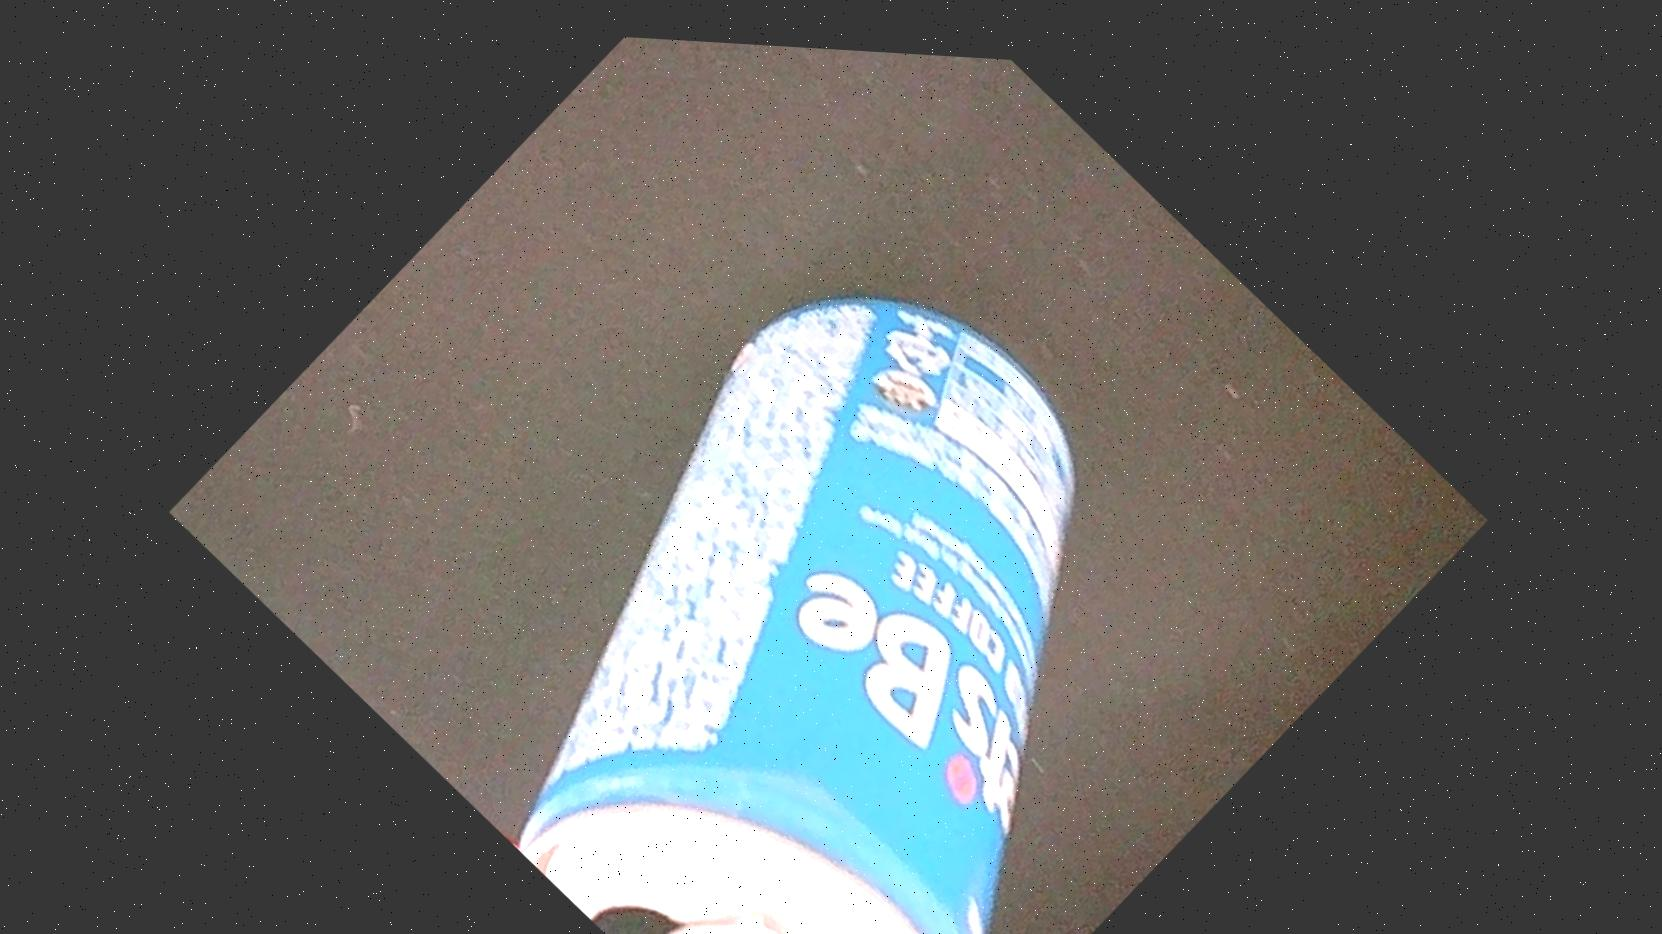letsbe: (380, 180, 1344, 934)
